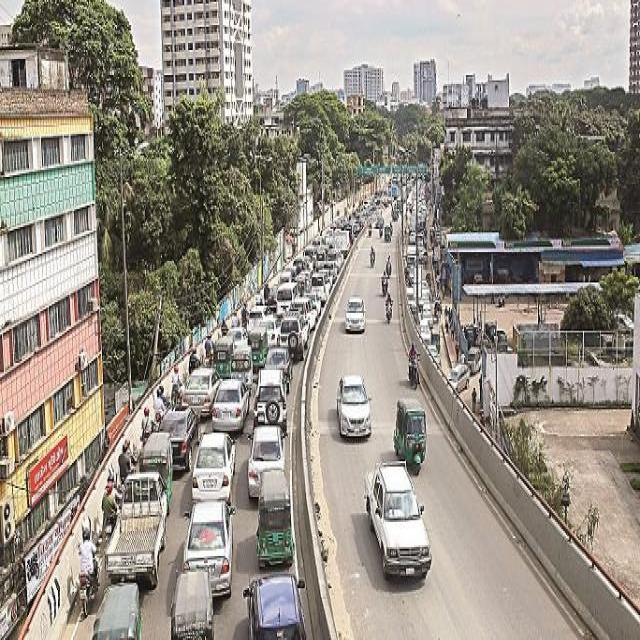Ad-signs: (26, 432, 69, 508)
Car: (363, 456, 432, 581), (336, 374, 372, 439)
Motorcycle: (77, 554, 100, 619), (407, 350, 420, 390), (384, 296, 393, 324)
